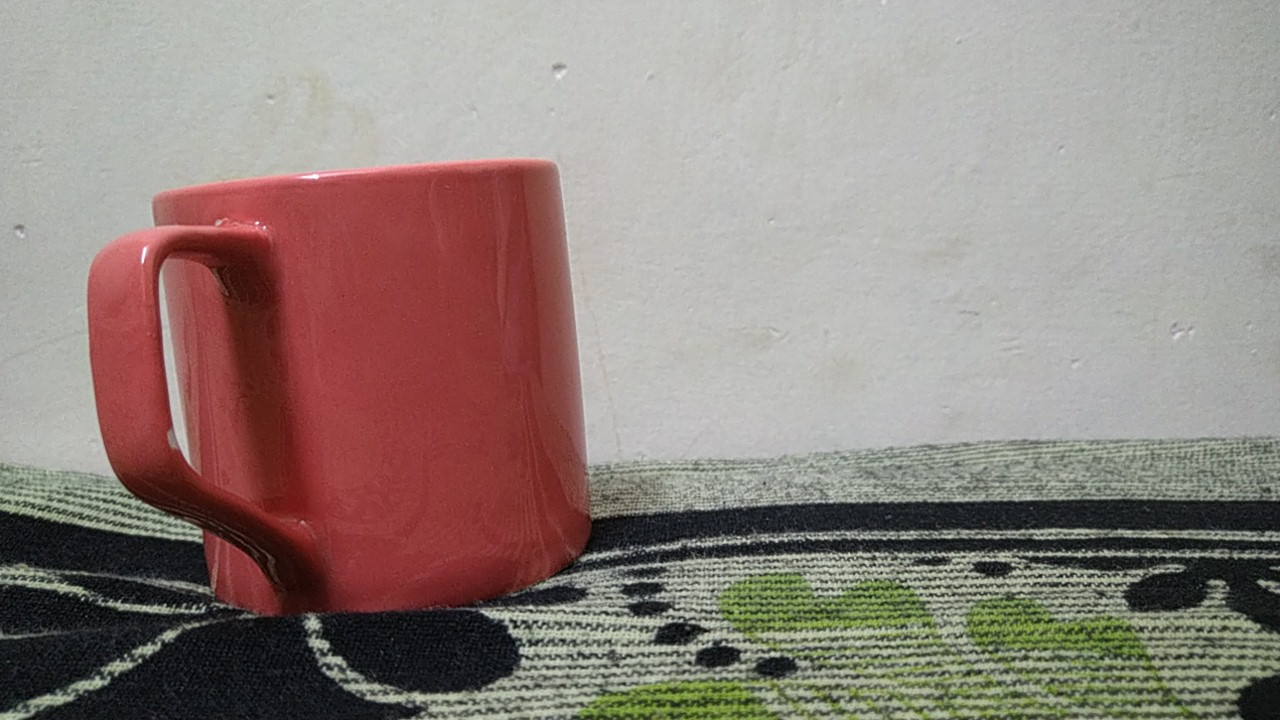cup: (67, 152, 630, 630)
